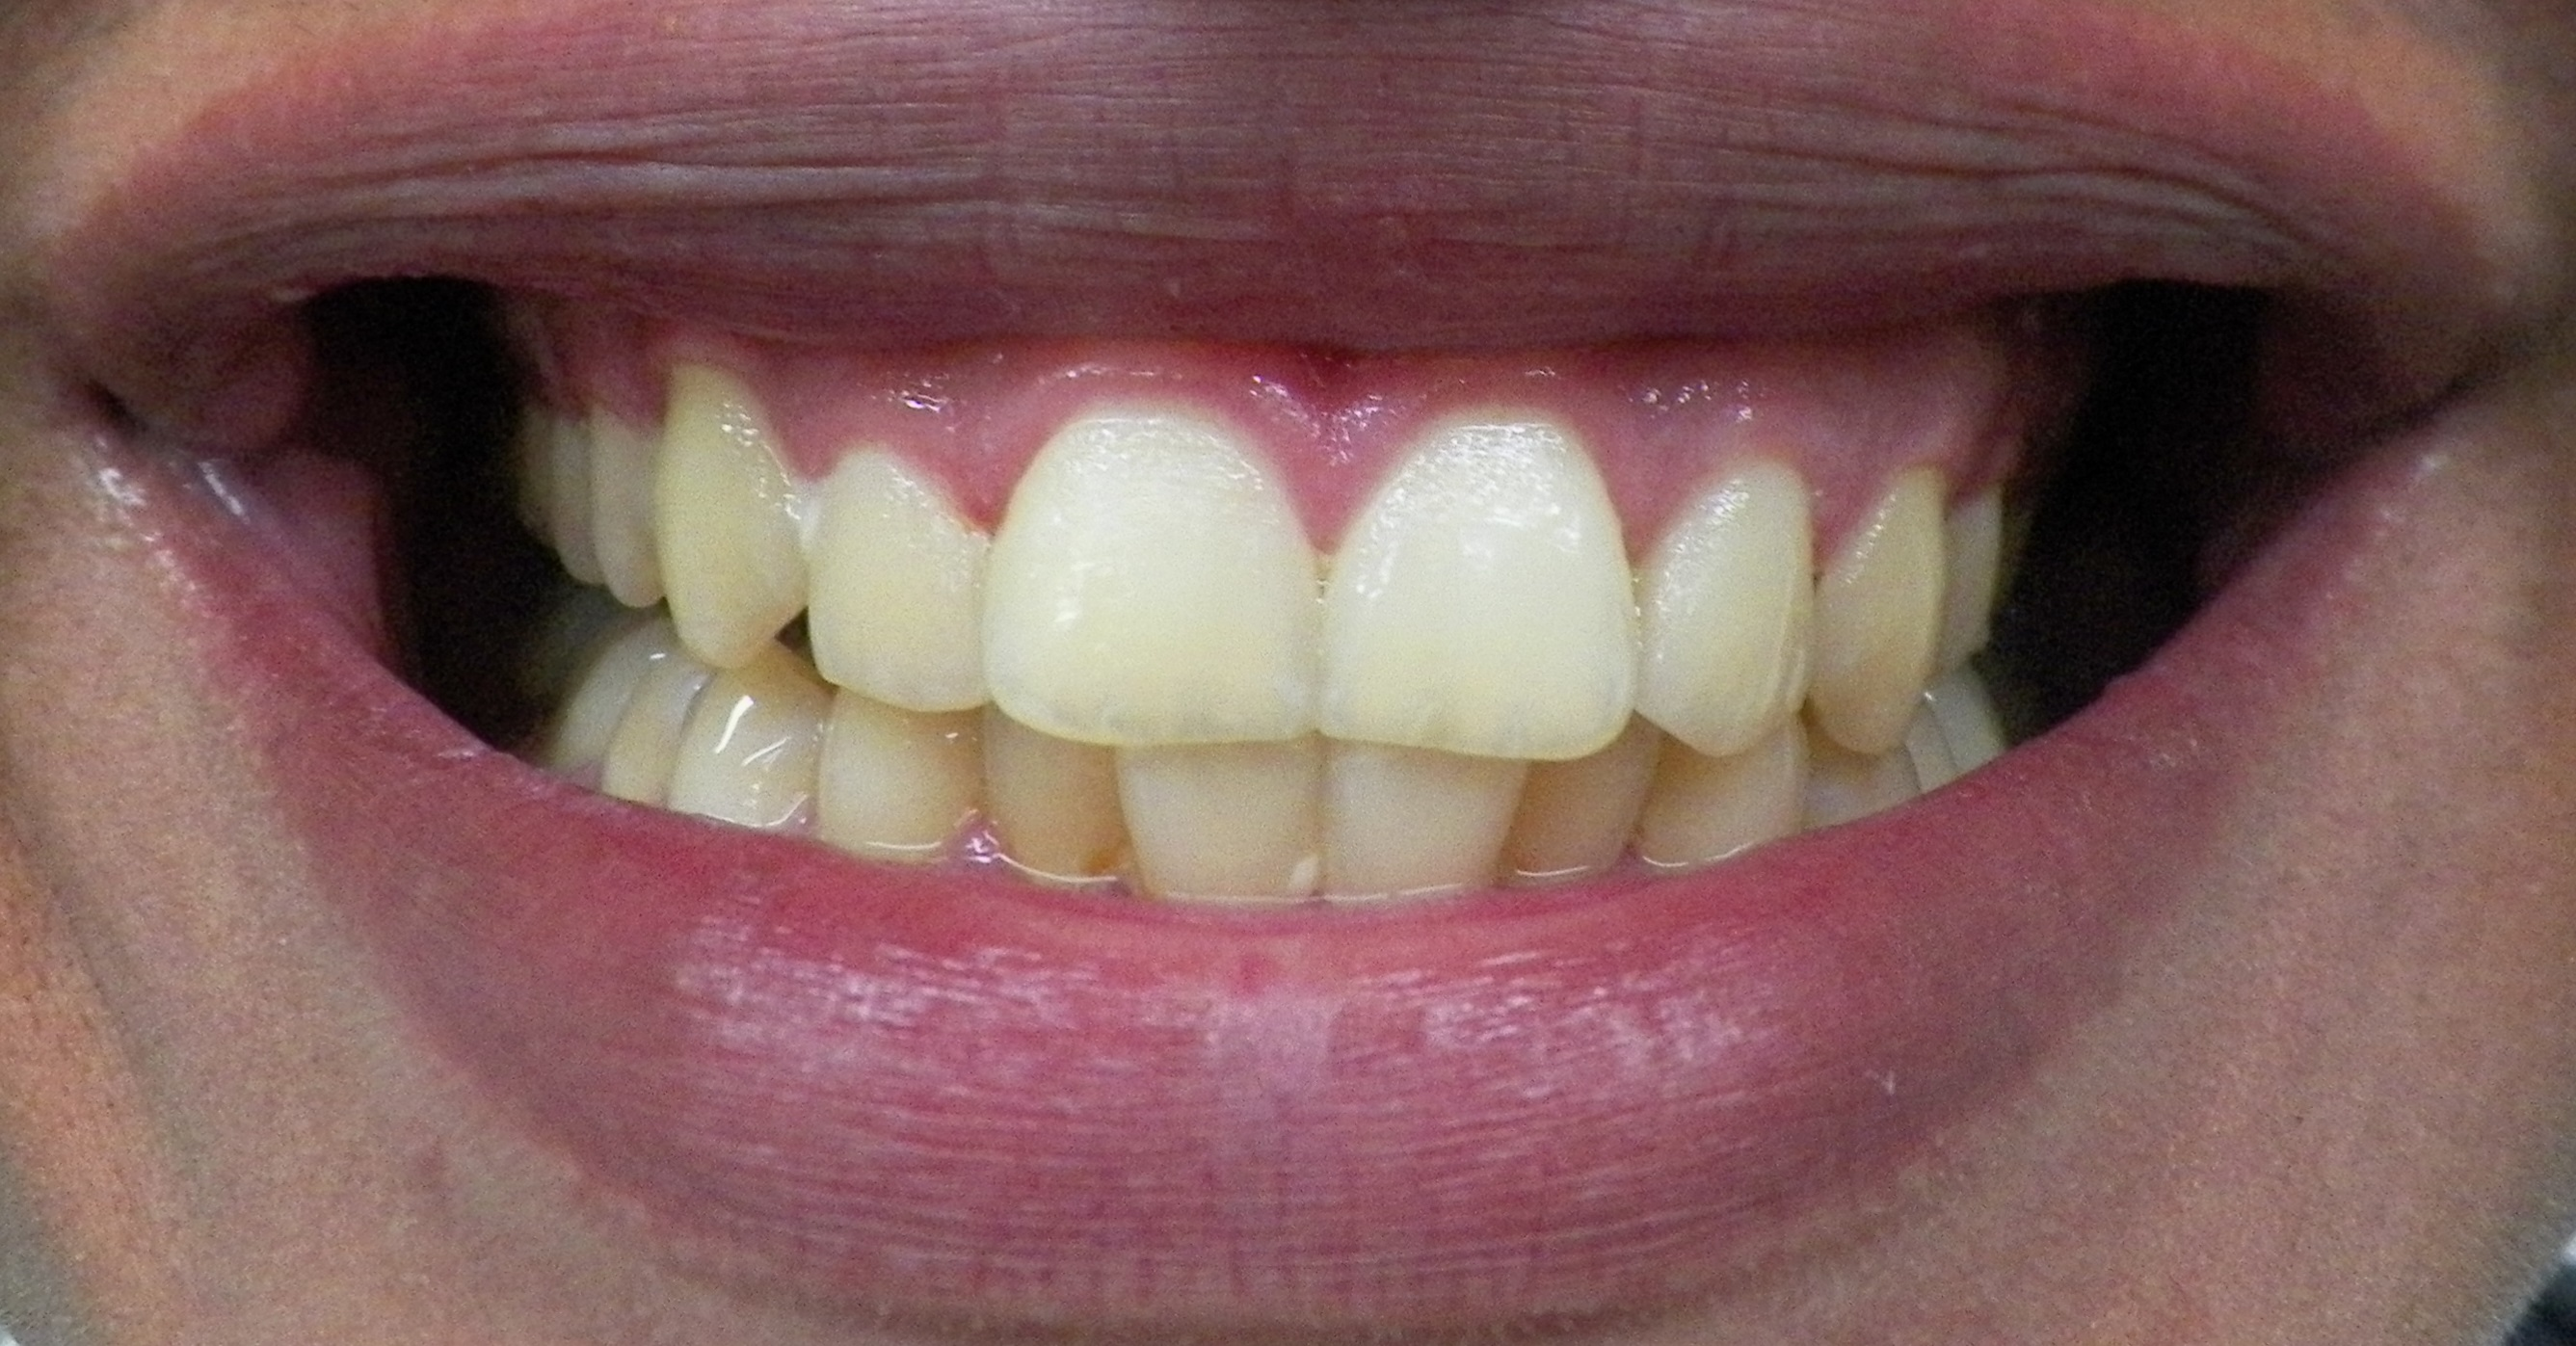boca: (474, 358, 2051, 893)
